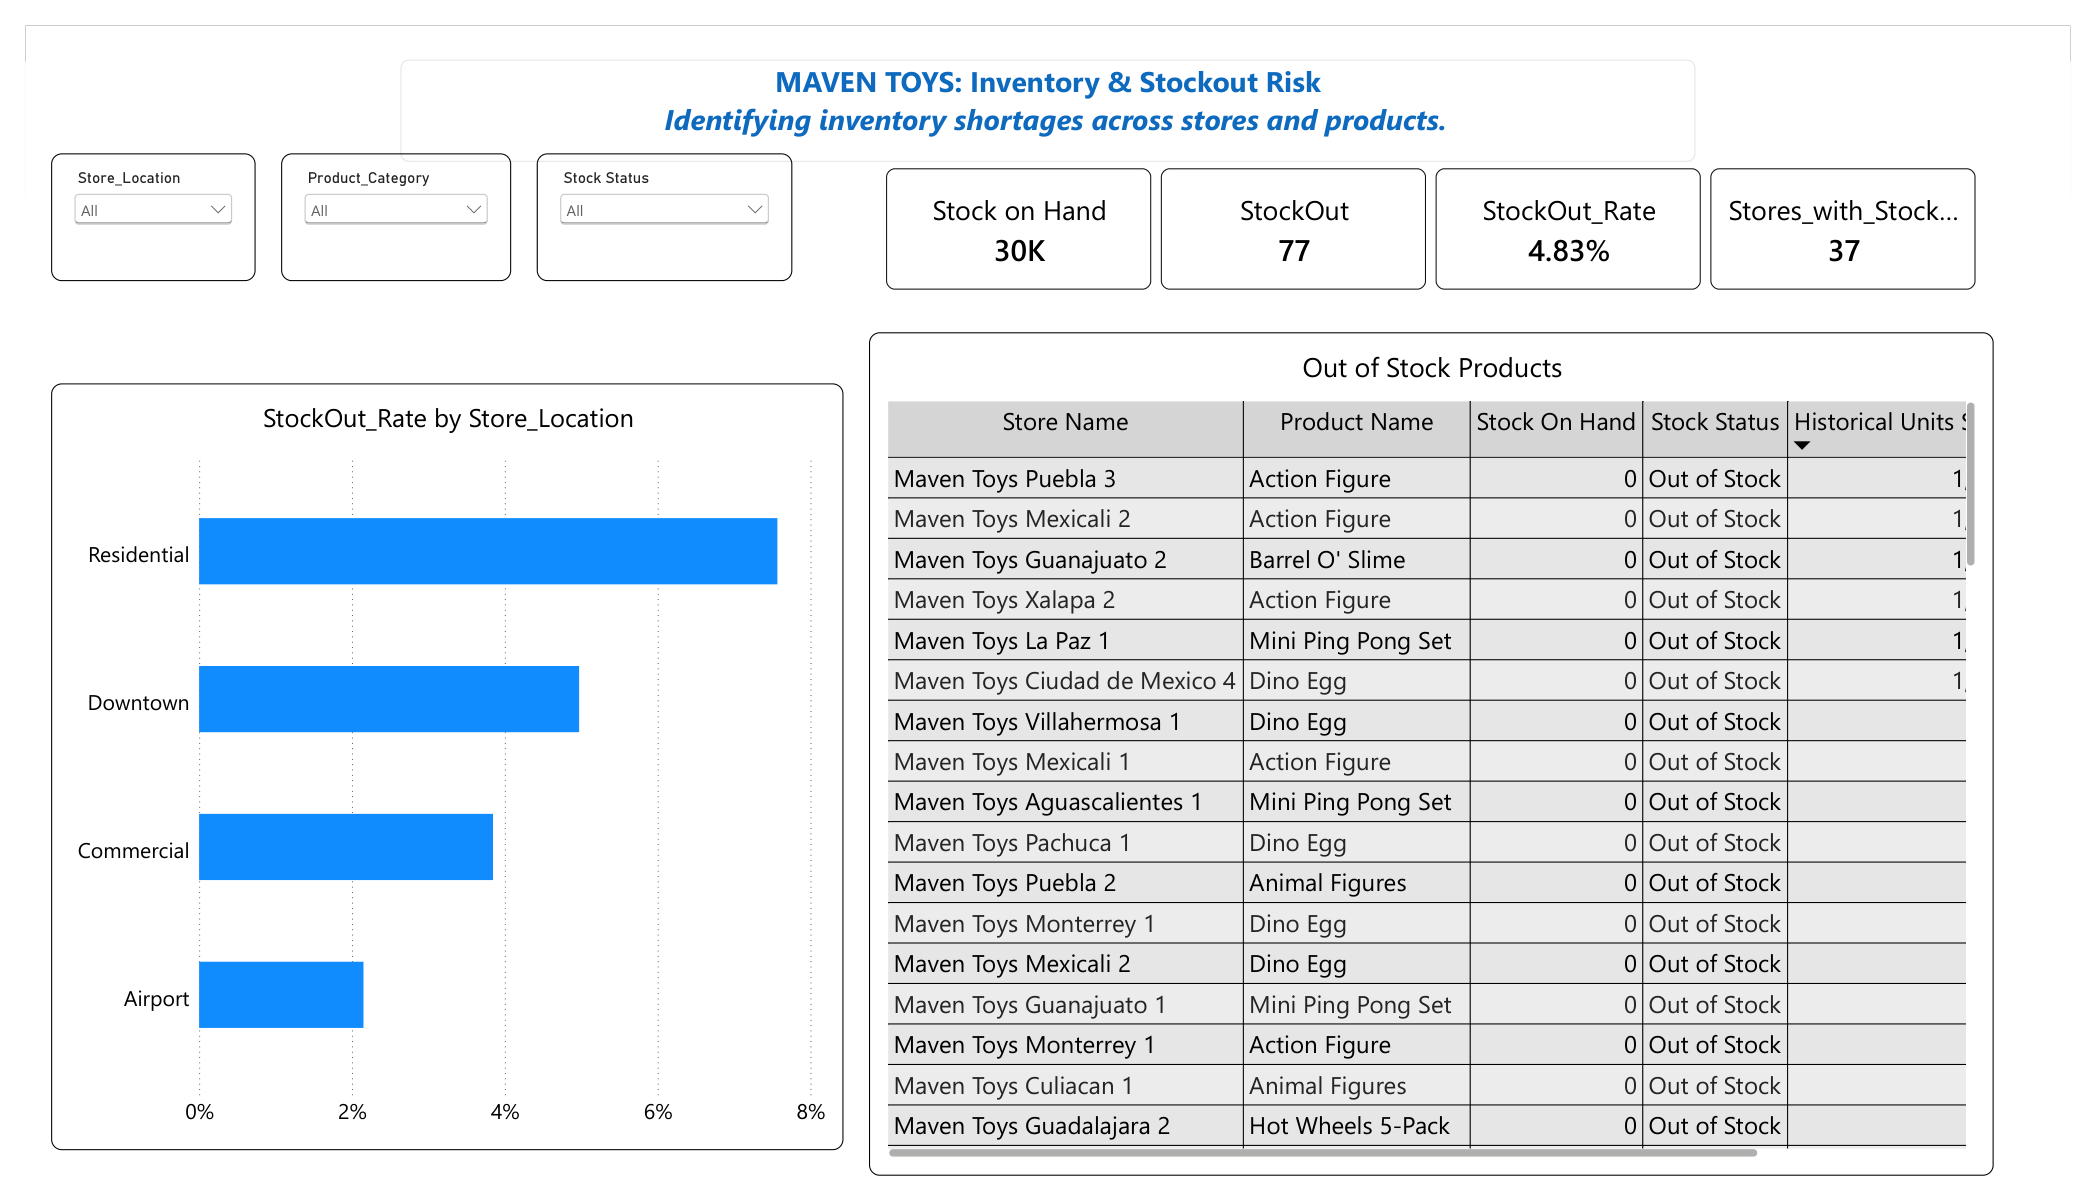

What the dashboard file says about the page in this screenshot:
{"tool":"powerbi","page":{"name":"Inventory & Stockout Analysis","canvas":[1920,1080],"ordinal":2},"visuals":[{"type":"textbox","box":[352,32,1216,96],"z":0},{"type":"clusteredBarChart","fields":{"Category":["stores.Store_Location"],"Y":["Measure.StockOut_Rate"]},"box":[24,336,744,720],"z":1000},{"type":"cardVisual","fields":{"Data":["Measure.Stock_On_Hand","Measure.StockOut_Count","Measure.StockOut_Rate","Measure.Stores_with_Stockouts"]},"box":[792,120,1056,144],"z":3000},{"type":"slicer","fields":{"Values":["Inventory.Stock Status"]},"box":[480,120,240,120],"z":5000},{"type":"slicer","fields":{"Values":["products.Product_Category"]},"box":[240,120,216,120],"z":6000},{"type":"slicer","fields":{"Values":["stores.Store_Location"]},"box":[24,120,192,120],"z":7000},{"type":"tableEx","title":"Out of Stock Products","fields":{"Values":["stores.Store_Name","products.Product_Name","Measure.Stock_On_Hand","Inventory.Stock Status","Measure.Total_Unit_Sold","Measure.Total_Revenue"]},"box":[792,288,1056,792],"z":7001}]}

Visuals, with their boxes in screenshot pixels (x1, y1, x2, y2), scaled from the page's 1920x1080 canvas onto the 2096x1202 screenshot:
textbox: Rect(384, 36, 1712, 142)
clusteredBarChart - stores.Store_Location x Measure.StockOut_Rate: Rect(26, 374, 838, 1175)
cardVisual - Measure.Stock_On_Hand x Measure.StockOut_Count: Rect(865, 134, 2017, 294)
slicer - Inventory.Stock Status: Rect(524, 134, 786, 267)
slicer - products.Product_Category: Rect(262, 134, 498, 267)
slicer - stores.Store_Location: Rect(26, 134, 236, 267)
"Out of Stock Products" tableEx: Rect(865, 321, 2017, 1201)
